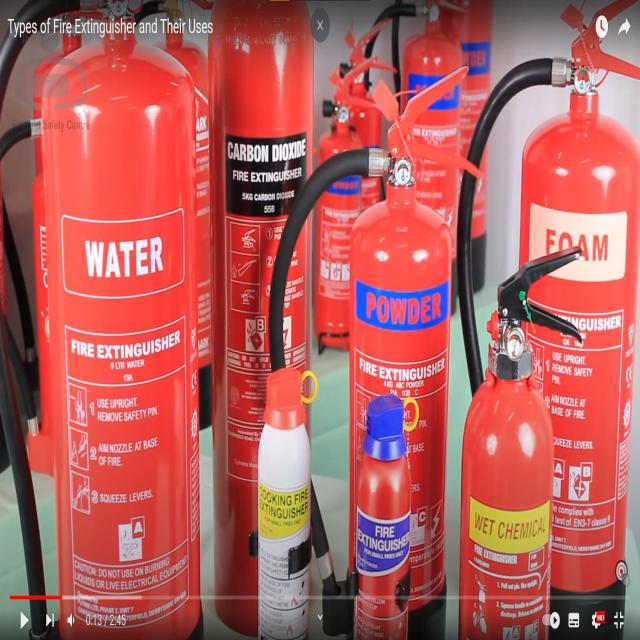fire_extinguisher: (0, 0, 208, 639), (450, 0, 639, 639), (202, 0, 315, 639), (454, 238, 588, 640), (356, 1, 462, 327), (320, 19, 403, 306), (309, 50, 382, 358), (252, 360, 314, 640), (349, 380, 414, 640)
